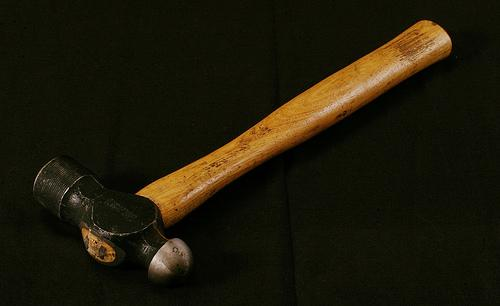hammer: (30, 17, 453, 287)
